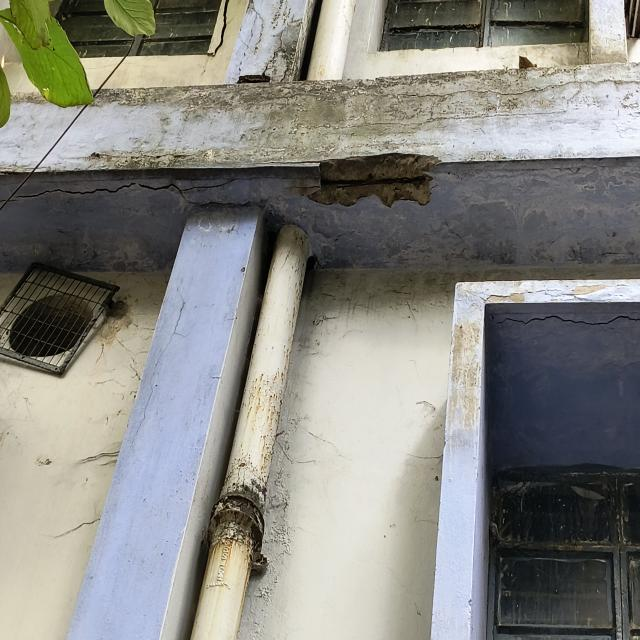Corrosion: (191, 225, 310, 640)
Crack: (0, 177, 316, 209), (131, 294, 192, 448), (392, 69, 639, 103), (302, 110, 567, 129), (496, 312, 640, 328), (61, 150, 206, 161), (211, 0, 231, 61), (250, 159, 321, 165)
Paint Peeling: (445, 308, 484, 442), (485, 280, 640, 304)
Scaling: (226, 0, 301, 84)
Spalling: (307, 154, 437, 207)
pollution -moisture induced blackening: (0, 67, 640, 168)
